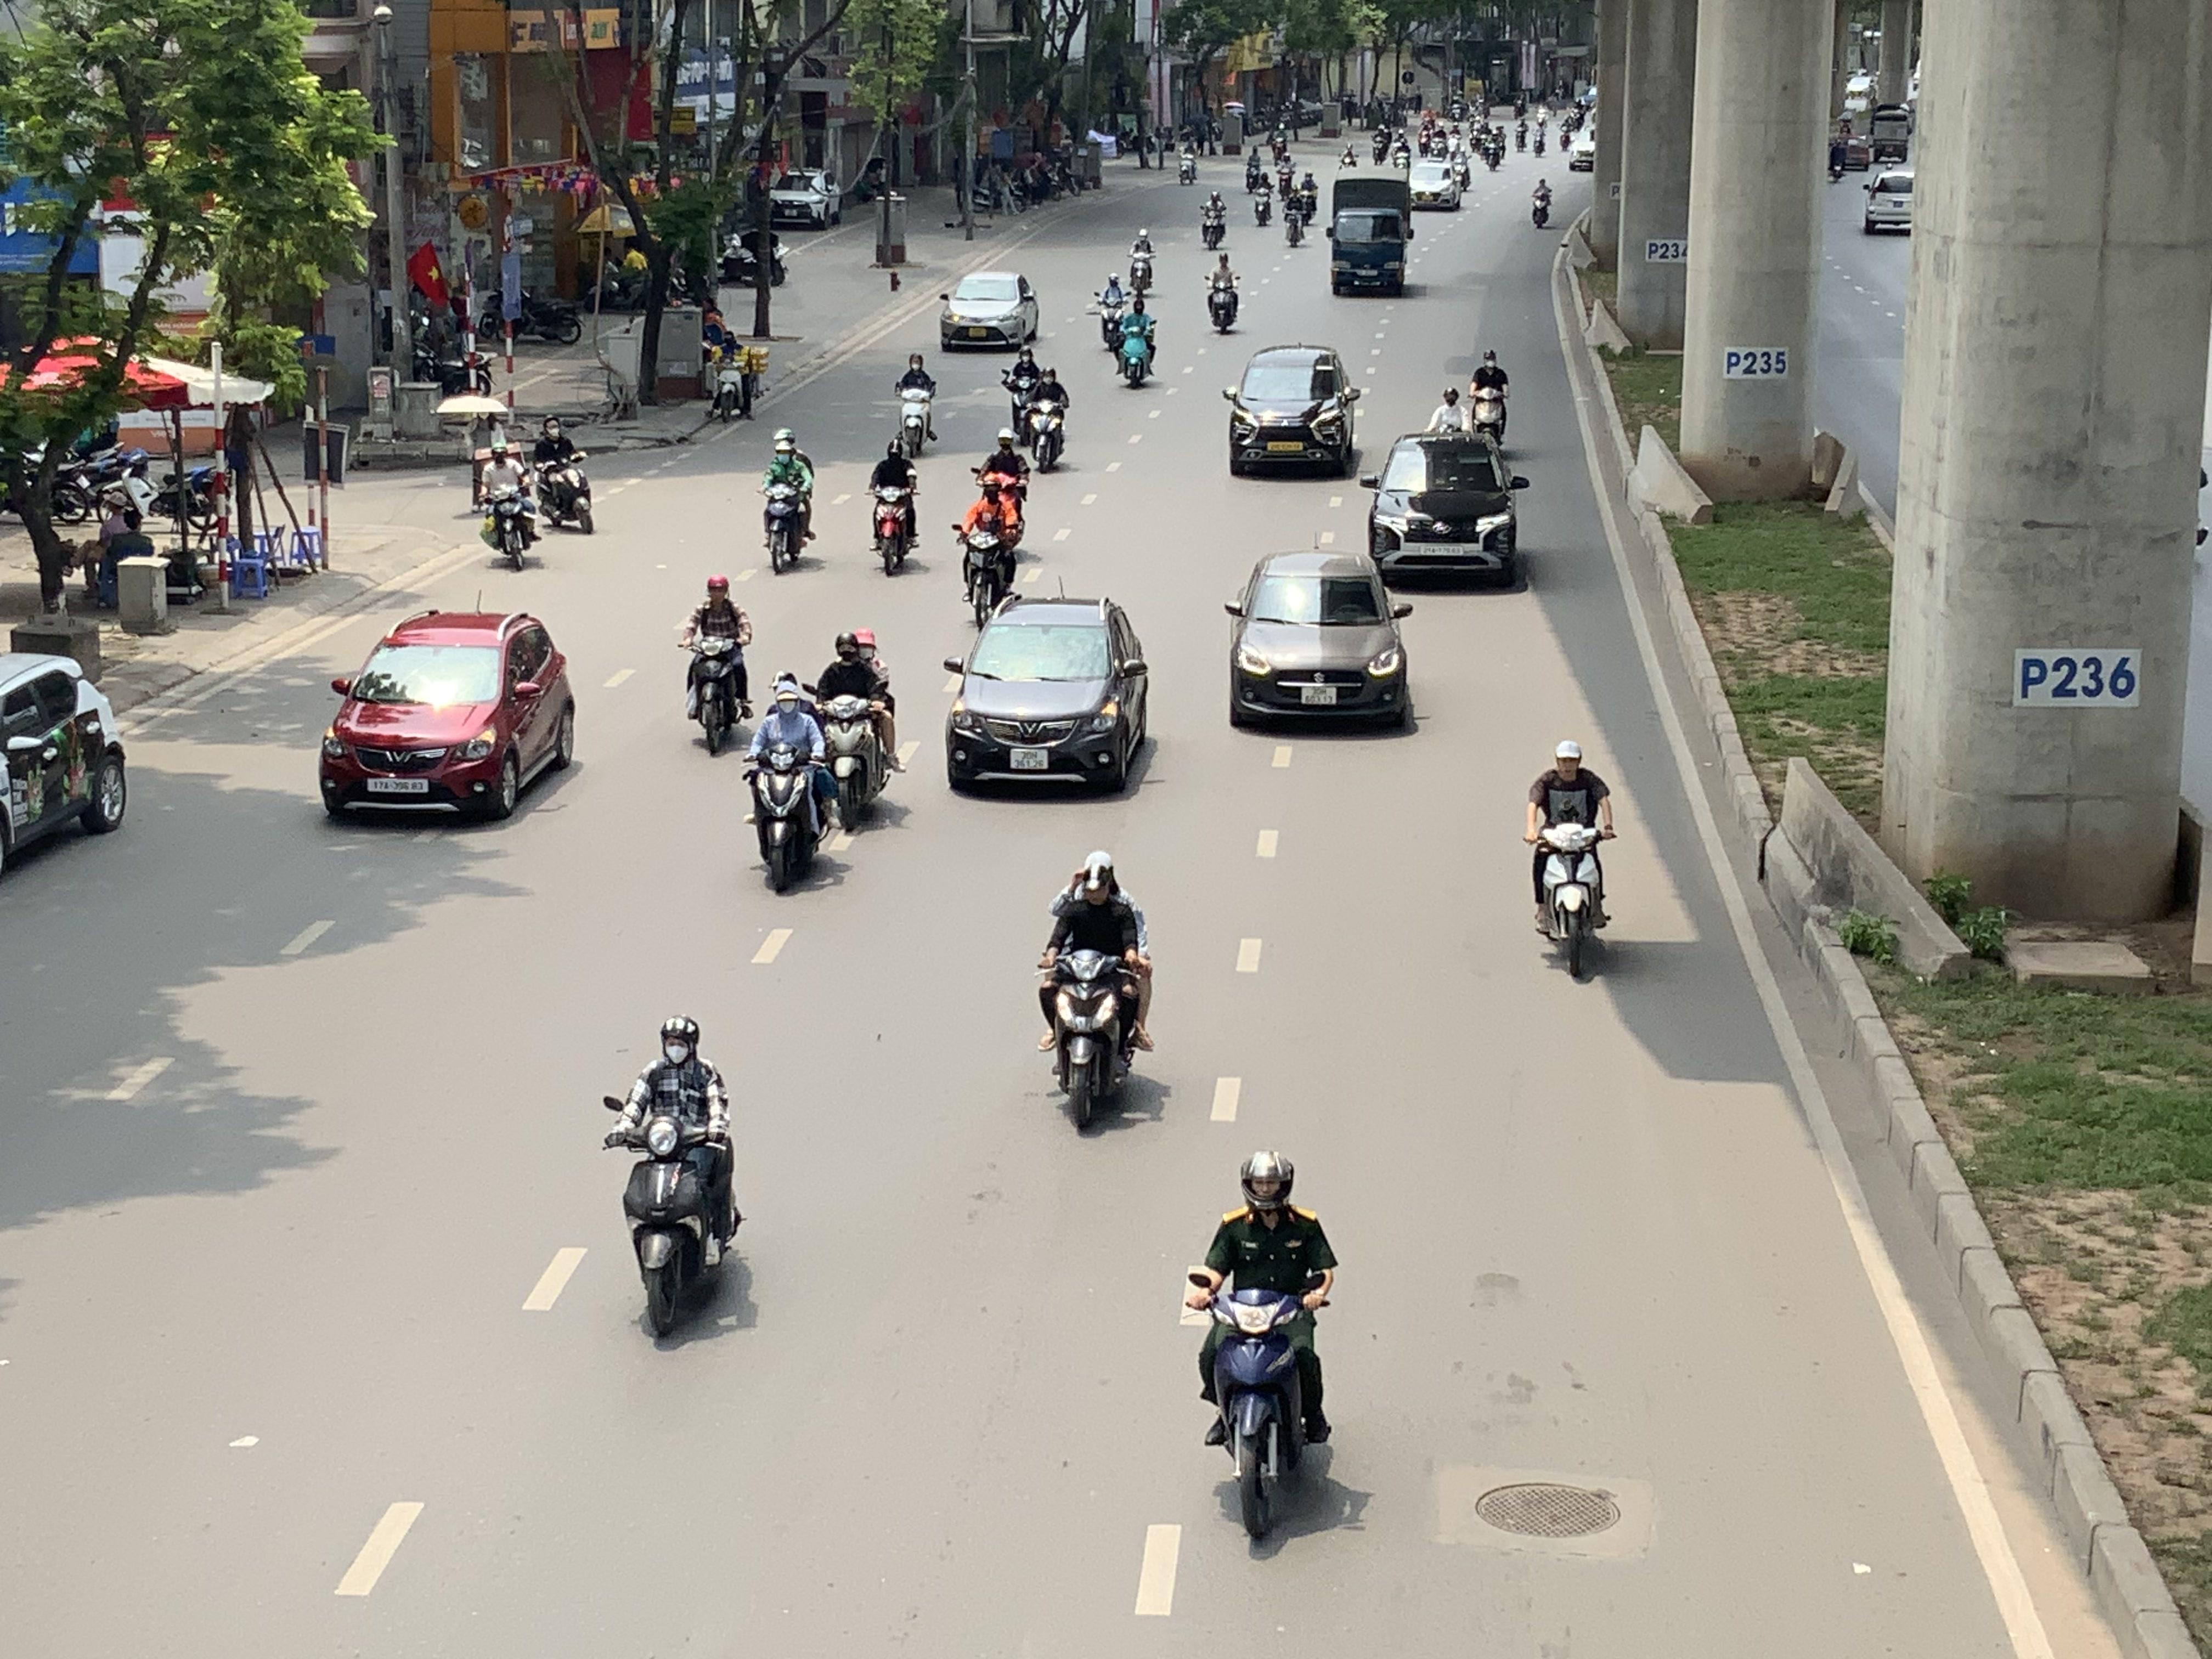BSD: (369, 779, 428, 793)
BSV: (1010, 746, 1049, 769), (1303, 687, 1338, 706)
car: (317, 608, 578, 826), (942, 594, 1157, 798), (1223, 549, 1416, 734), (0, 650, 129, 884), (1362, 434, 1529, 587), (1223, 345, 1364, 479), (939, 270, 1040, 352), (766, 171, 843, 230), (1862, 164, 1914, 235), (1407, 159, 1467, 211)
motorbike: (1188, 1150, 1336, 1553), (604, 1014, 742, 1347), (1038, 850, 1151, 1136), (742, 673, 838, 896), (1527, 739, 1613, 983), (815, 627, 900, 830), (681, 573, 754, 755), (954, 481, 1024, 631), (479, 443, 542, 570), (529, 415, 594, 535), (761, 430, 815, 573), (867, 437, 920, 575), (972, 429, 1031, 532), (704, 328, 763, 422), (1465, 347, 1514, 450), (1024, 362, 1069, 472), (894, 352, 939, 457), (1115, 296, 1157, 389), (1001, 342, 1043, 430), (1205, 249, 1242, 335), (1092, 270, 1130, 347), (1127, 225, 1157, 300), (1200, 186, 1230, 251), (1282, 188, 1310, 247), (1529, 176, 1554, 230), (1249, 178, 1273, 228)
truck: (1327, 164, 1414, 298)
